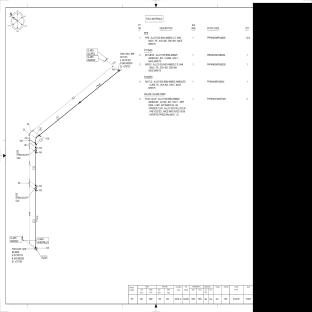elbow: (35, 135, 39, 144)
